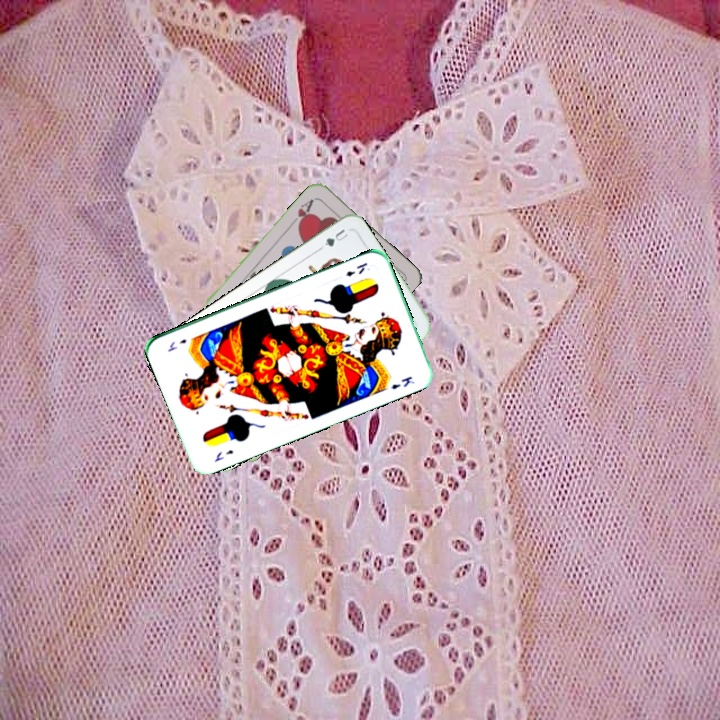EK: (342, 259, 370, 279), (210, 446, 236, 464)
GU: (320, 225, 351, 249)
HA: (287, 194, 318, 231)
